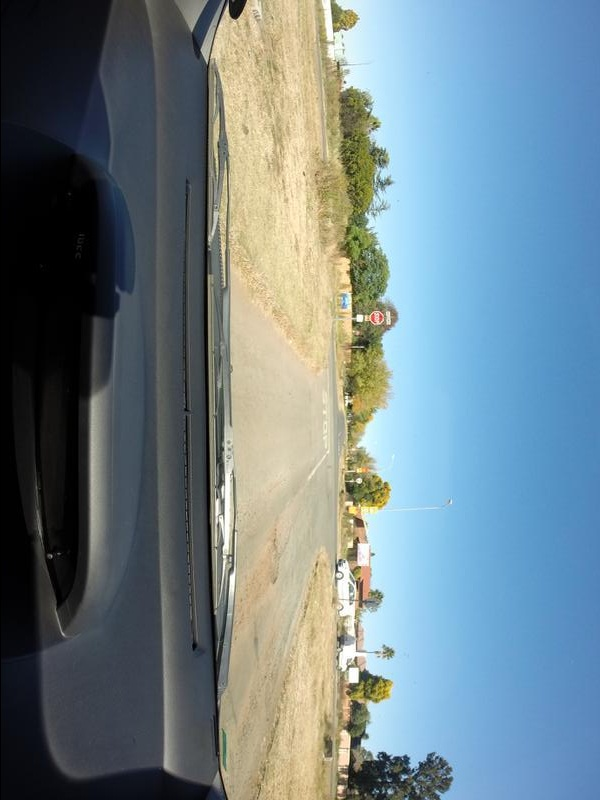pothole: (251, 640, 274, 717), (266, 524, 283, 592), (240, 574, 254, 632)
